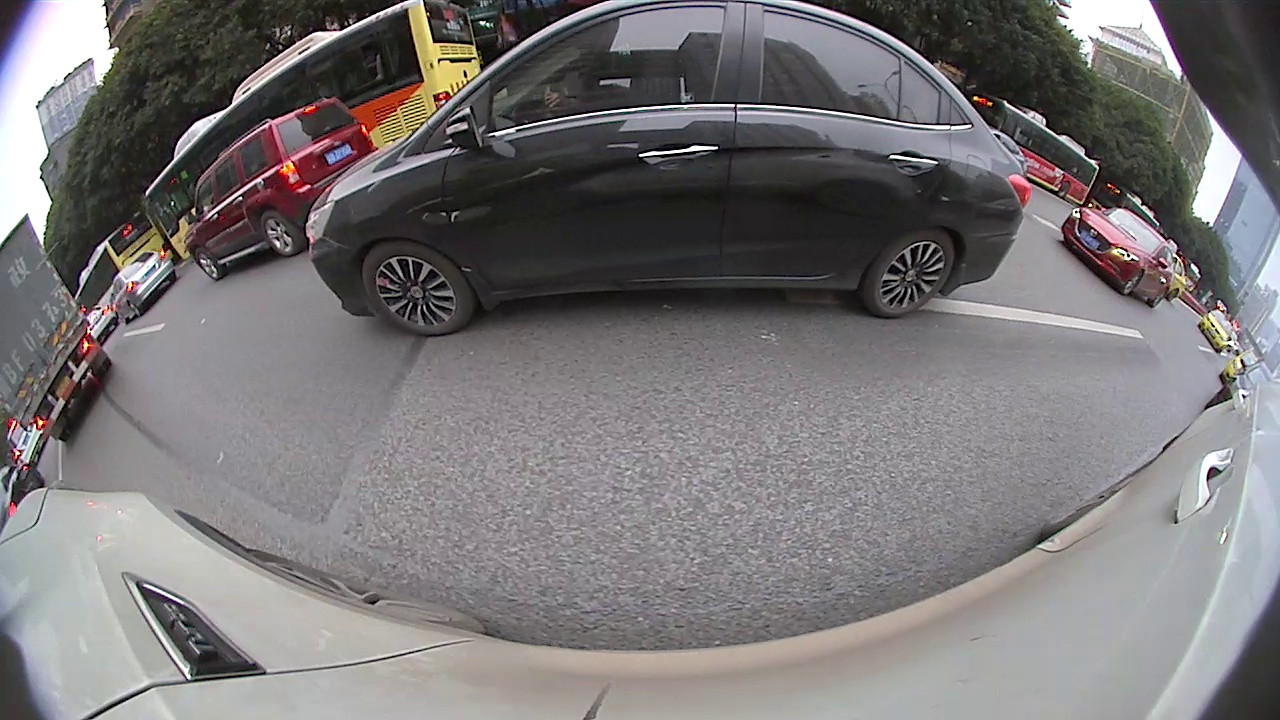bus: (146, 4, 483, 241), (968, 94, 1100, 206), (70, 209, 168, 318), (1091, 180, 1163, 230)
car: (308, 3, 1033, 339), (183, 94, 374, 282), (1061, 208, 1176, 309), (102, 250, 177, 324), (1199, 310, 1241, 353)
front: (361, 243, 475, 337), (194, 247, 229, 280), (1117, 267, 1143, 296)
rear: (859, 228, 955, 319), (259, 209, 305, 257), (128, 300, 144, 318), (1056, 180, 1070, 198)
truck: (3, 218, 111, 440)
